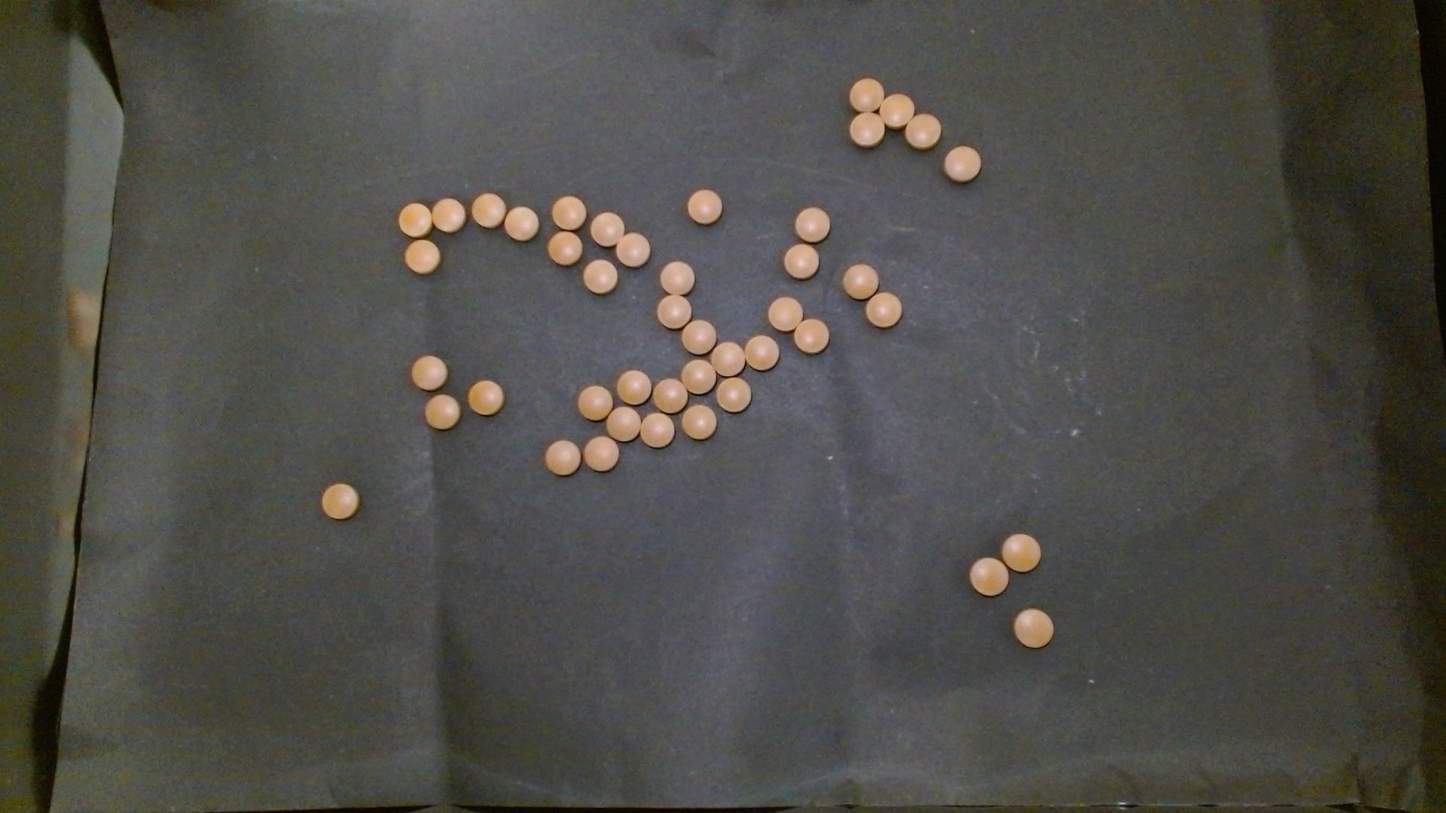Circle: (1011, 606, 1054, 650), (999, 531, 1042, 574), (319, 481, 362, 522), (969, 557, 1008, 596), (943, 145, 981, 183), (904, 112, 941, 150), (467, 379, 504, 416), (544, 439, 581, 476), (410, 354, 447, 391), (841, 263, 878, 300), (424, 394, 461, 430), (865, 292, 902, 328), (659, 260, 695, 297), (577, 385, 614, 421), (767, 295, 803, 331), (681, 404, 717, 440), (716, 377, 752, 413), (850, 111, 886, 147), (656, 294, 692, 330), (403, 239, 440, 274), (584, 435, 619, 472), (640, 412, 675, 449), (879, 92, 914, 129), (582, 259, 618, 294), (783, 244, 819, 279), (794, 318, 829, 354), (615, 232, 651, 267), (744, 334, 779, 370), (795, 206, 830, 242), (606, 405, 641, 441), (681, 358, 716, 394), (616, 369, 651, 405), (653, 377, 688, 413), (710, 341, 745, 377), (397, 201, 432, 237), (551, 195, 586, 231), (681, 318, 715, 355), (504, 206, 539, 241), (687, 189, 722, 224), (590, 211, 625, 246), (431, 197, 465, 233), (471, 192, 505, 228), (849, 77, 883, 113), (548, 230, 581, 266)
